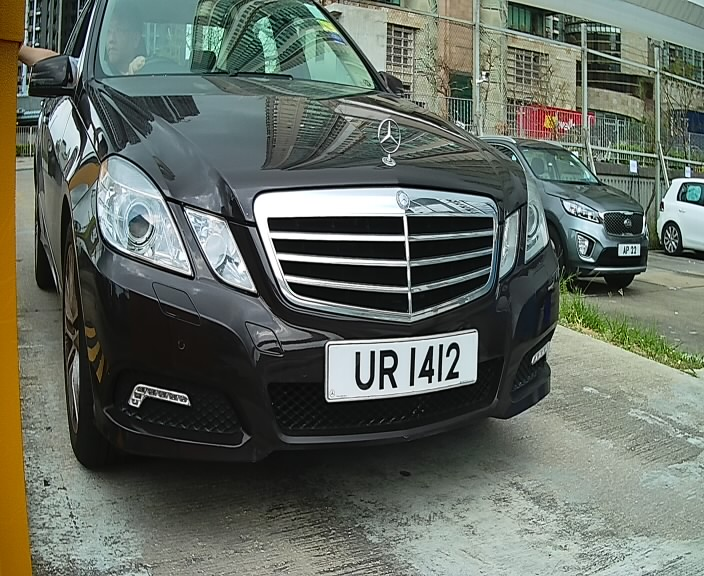License Plate: (316, 322, 486, 416)
